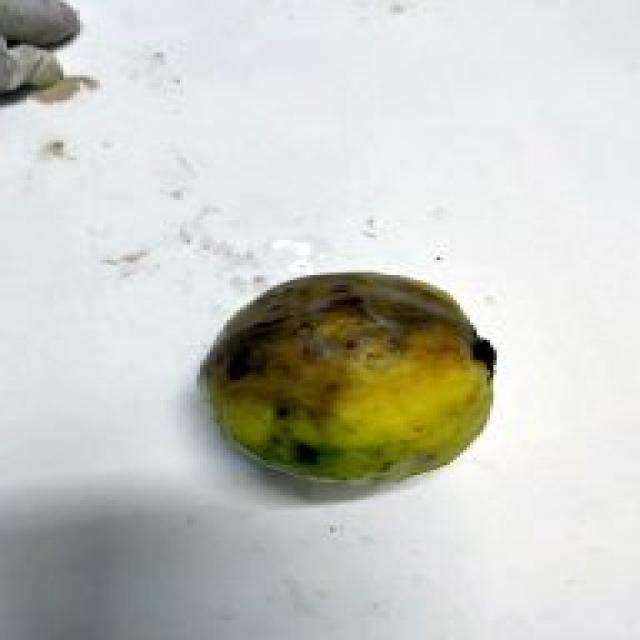Bad_Guava: (200, 272, 495, 479)
